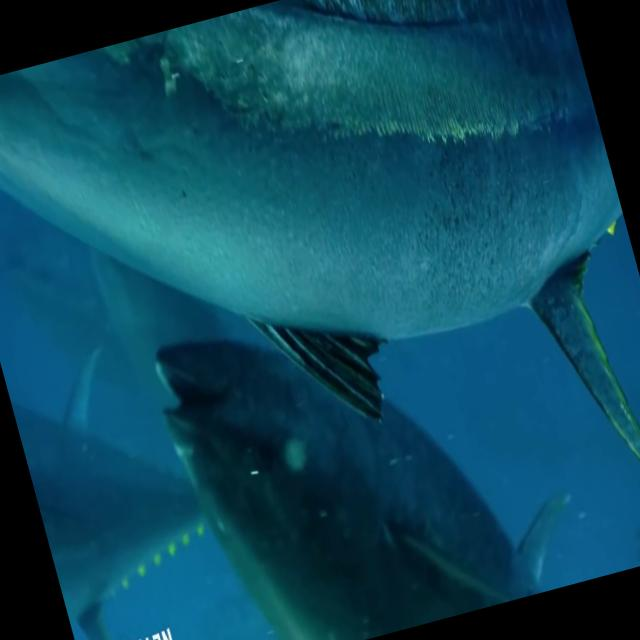fish: (0, 0, 640, 640), (134, 249, 590, 640), (1, 323, 253, 640)
